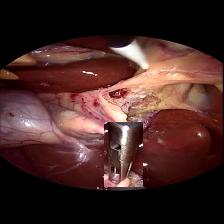Grasper: (104, 121, 143, 186)
Hook: (108, 38, 158, 78)
